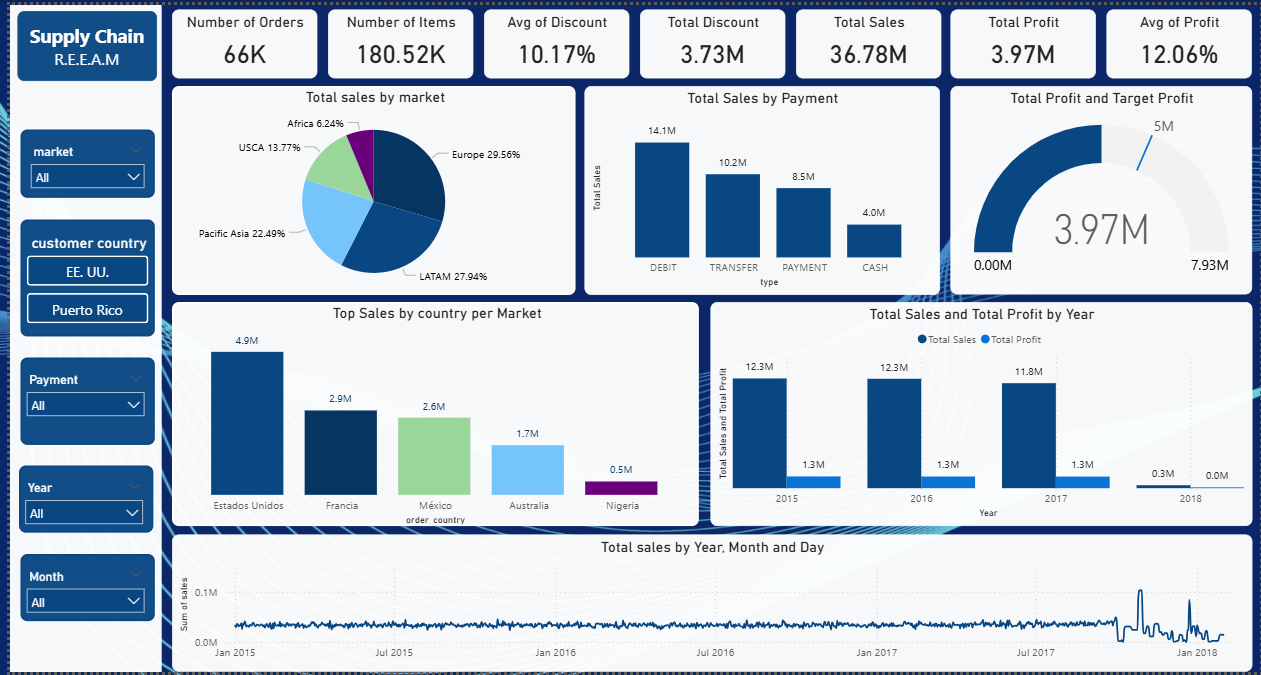

The page's visual inventory and layout, read from the dashboard file:
{"tool":"powerbi","page":{"name":"Sales","canvas":[1440,768],"ordinal":0},"visuals":[{"type":"shape","box":[0,0,174.5,773.2],"z":0,"group":"g2"},{"type":"card","title":"Number of Orders","fields":{"Values":["Dax_Measure.Total Orders"]},"box":[186.4,5.6,167.5,79.6],"z":0,"group":"g1"},{"type":"pieChart","title":"Total sales by market","fields":{"Category":["orders.market"],"Y":["Sum(order_items.sales)"]},"box":[187.1,92.9,464.4,240.7],"z":0},{"type":"card","title":"Total Sales","fields":{"Values":["Dax_Measure.Total Sales"]},"box":[904.1,5.6,167.5,79.6],"z":1000,"group":"g1"},{"type":"slicer","fields":{"Values":["orders.market"]},"box":[12.3,143.9,154.4,78.5],"z":1000,"group":"g2"},{"type":"lineChart","title":"Total sales by Year, Month and Day","fields":{"Y":["Sum(order_items.sales)"],"Category":["Dim_Date.Date.Variation.Date Hierarchy.Year","Dim_Date.Date.Variation.Date Hierarchy.Month","Dim_Date.Date.Variation.Date Hierarchy.Day"]},"box":[187.1,609.6,1244,158.3],"z":1000},{"type":"textbox","box":[8,7,160.5,80.9],"z":2000,"group":"g2"},{"type":"slicer","fields":{"Values":["Dim_Date.Year"]},"box":[11,530.5,154.4,77.2],"z":3000,"group":"g2"},{"type":"slicer","fields":{"Values":["Dim_Date.Month Short"]},"box":[11.6,631.8,154.4,77.2],"z":4000,"group":"g2"},{"type":"card","title":"Total Profit","fields":{"Values":["Dax_Measure.Total Profit"]},"box":[1083.6,5.6,167.5,79.6],"z":5000,"group":"g1"},{"type":"columnChart","title":"Total Sales by Payment","fields":{"Y":["Dax_Measure.Total Sales"],"Category":["orders.type"]},"box":[661.9,92.9,409.4,240.7],"z":5000},{"type":"advancedSlicerVisual","title":"customer country","fields":{"Values":["customers.customer_country"]},"box":[11.6,246.6,154.4,134.7],"z":5000,"group":"g2"},{"type":"card","title":"Number of Items","fields":{"Values":["Dax_Measure.Total Item"]},"box":[365.8,5.6,167.5,79.6],"z":6000,"group":"g1"},{"type":"gauge","fields":{"Y":["Dax_Measure.Total Profit"],"TargetValue":["Dax_Measure.Target Profit"]},"box":[1083,93.5,347.5,240],"z":6000},{"type":"slicer","fields":{"Values":["orders.type"]},"box":[11.6,405.5,154.4,100.7],"z":6000,"group":"g2"},{"type":"group","id":"g1","title":"Group 2","box":[186.4,5.6,1244.1,79.6],"z":7000},{"type":"card","title":"Avg of Profit","fields":{"Values":["Dax_Measure.Avg Profit"]},"box":[1263,5.6,167.5,79.6],"z":7000,"group":"g1"},{"type":"card","title":"Avg of Discount","fields":{"Values":["Dax_Measure.Avg discount"]},"box":[545.3,5.6,167.5,79.6],"z":8000,"group":"g1"},{"type":"clusteredColumnChart","fields":{"Category":["Dim_Date.Date.Variation.Date Hierarchy.Year"],"Y":["Dax_Measure.Total Sales","Dax_Measure.Total Profit"]},"box":[807.1,342.7,624,257.7],"z":9000},{"type":"card","title":"Total Discount","fields":{"Values":["Dax_Measure.Total discount"]},"box":[724.7,5.6,167.5,79.6],"z":10000,"group":"g1"},{"type":"columnChart","title":"Top Sales by country per Market ","fields":{"Y":["Sum(TopOrder&TopSalesPerMarket.TotalSales)"],"Category":["TopOrder&TopSalesPerMarket.order_country"]},"box":[187.1,342.7,607,257.7],"z":10000},{"type":"group","id":"g2","title":"Group 1","box":[0,0,175.3,773.1],"z":11001}]}

Visuals, with their boxes in screenshot pixels (x1, y1, x2, y2), scaled from the page's 1440x768 canvas onto the 1261x675 screenshot:
shape: <bbox>0, 0, 153, 674</bbox>
"Number of Orders" card: <bbox>163, 5, 310, 75</bbox>
"Total sales by market" pieChart: <bbox>164, 82, 571, 293</bbox>
"Total Sales" card: <bbox>792, 5, 938, 75</bbox>
slicer - orders.market: <bbox>11, 126, 146, 195</bbox>
"Total sales by Year, Month and Day" lineChart: <bbox>164, 536, 1253, 674</bbox>
textbox: <bbox>7, 6, 148, 77</bbox>
slicer - Dim_Date.Year: <bbox>10, 466, 145, 534</bbox>
slicer - Dim_Date.Month Short: <bbox>10, 555, 145, 623</bbox>
"Total Profit" card: <bbox>949, 5, 1096, 75</bbox>
"Total Sales by Payment" columnChart: <bbox>580, 82, 938, 293</bbox>
"customer country" advancedSlicerVisual: <bbox>10, 217, 145, 335</bbox>
"Number of Items" card: <bbox>320, 5, 467, 75</bbox>
gauge - Dax_Measure.Total Profit x Dax_Measure.Target Profit: <bbox>948, 82, 1253, 293</bbox>
slicer - orders.type: <bbox>10, 356, 145, 445</bbox>
"Group 2" group: <bbox>163, 5, 1253, 75</bbox>
"Avg of Profit" card: <bbox>1106, 5, 1253, 75</bbox>
"Avg of Discount" card: <bbox>478, 5, 624, 75</bbox>
clusteredColumnChart - Dim_Date.Date.Variation.Date Hierarchy.Year x Dax_Measure.Total Sales: <bbox>707, 301, 1253, 528</bbox>
"Total Discount" card: <bbox>635, 5, 781, 75</bbox>
"Top Sales by country per Market " columnChart: <bbox>164, 301, 695, 528</bbox>
"Group 1" group: <bbox>0, 0, 154, 674</bbox>
